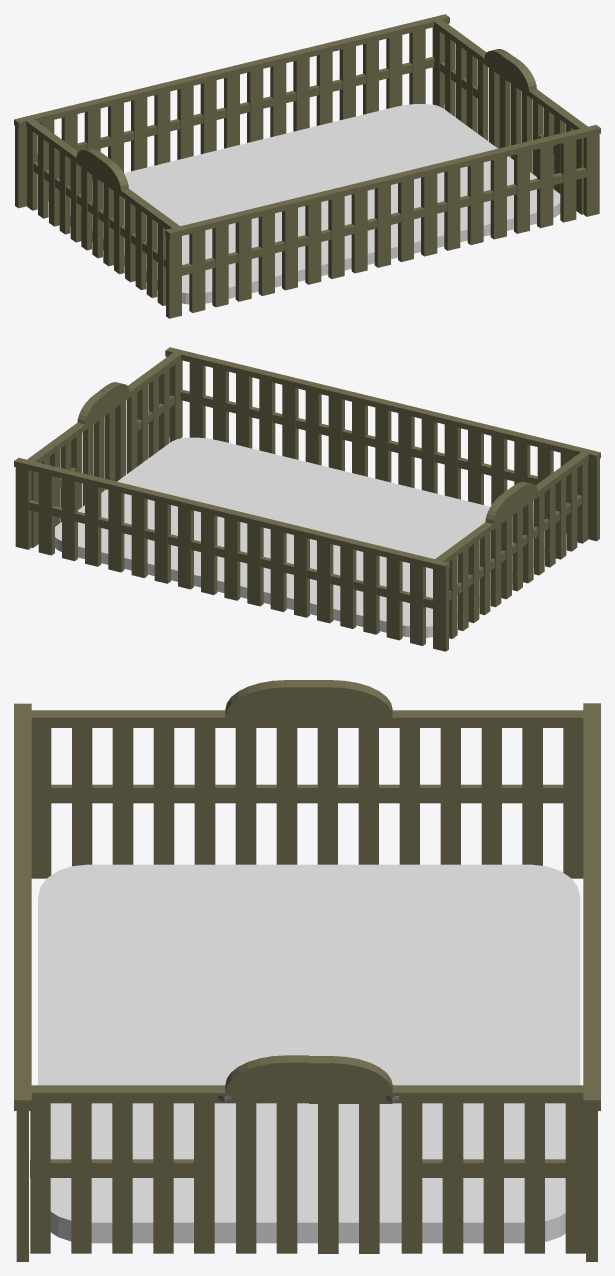
File: Crib 1.fbx
3 renders of one model, top to bottom at view 1: azimuth 30°, elevation 25°; view 2: azimuth 150°, elevation 25°; view 3: azimuth 270°, elevation 25°, orthographic. The views are drawn at different scales.
Visible parts, largest first — view 1: Bed, Cube.009, Cube.008; view 2: Bed, Cube.008, Cube.009; view 3: Bed, Cube.008, Cube.009.
Boxes of the visible parts, bbox=[...] form: Bed: bbox=[14, 14, 600, 318]; Cube.009: bbox=[484, 49, 513, 156]; Cube.008: bbox=[506, 57, 536, 173]; Bed: bbox=[14, 347, 600, 651]; Cube.008: bbox=[100, 382, 129, 490]; Cube.009: bbox=[77, 391, 107, 506]; Bed: bbox=[14, 680, 600, 1261]; Cube.008: bbox=[218, 1055, 308, 1253]; Cube.009: bbox=[309, 1056, 399, 1253].
Bounding box in the file's own units: 1122 × 255 × 701.
